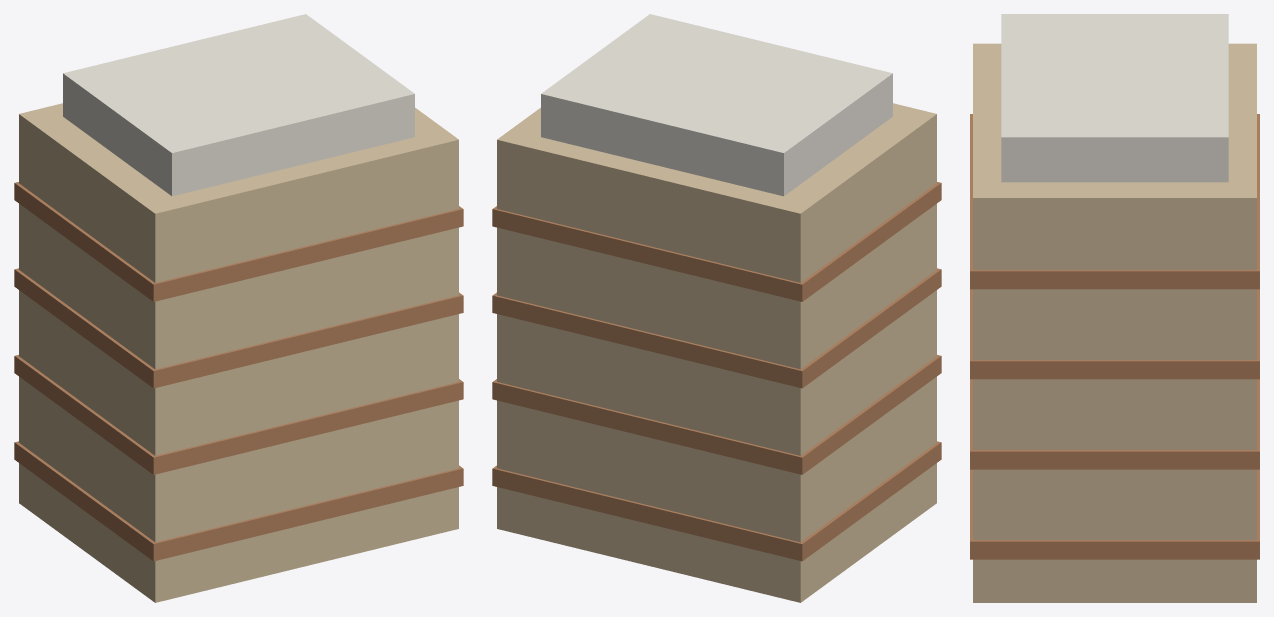
File: laundry-hamper.glb
3 views of the same model, side by side, from view 1: azimuth 30°, elevation 25°; view 2: azimuth 150°, elevation 25°; view 3: azimuth 270°, elevation 25° (orthographic). The views are drawn at different scales.
Visible parts, largest first — view 1: laundry-hamper; view 2: laundry-hamper; view 3: laundry-hamper.
Boxes of the visible parts, box(x1,y1,x2,y2) form: laundry-hamper: box(14, 14, 463, 602); laundry-hamper: box(492, 14, 941, 602); laundry-hamper: box(970, 14, 1259, 602).
Size of the model in its own units: 45 by 60 by 35.
